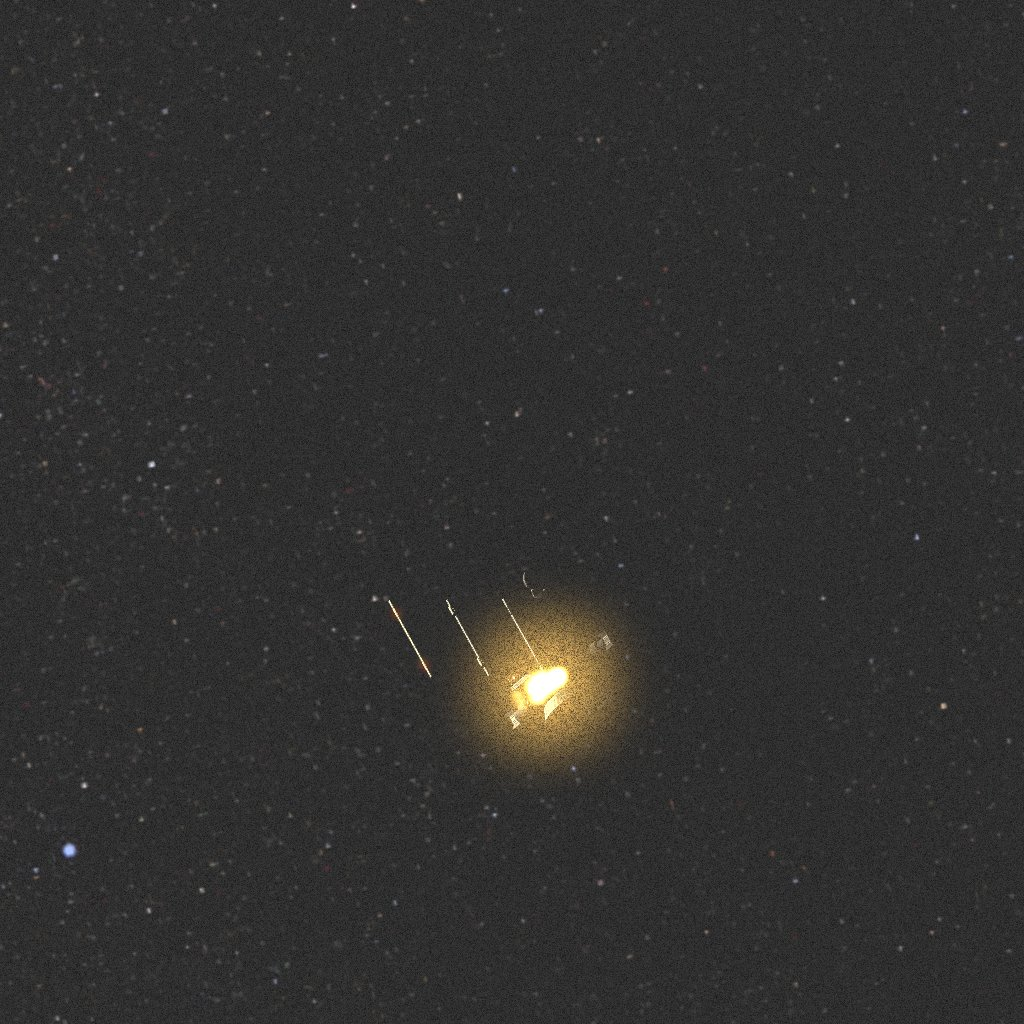earth_observation_sat_1: (383, 573, 590, 731)
